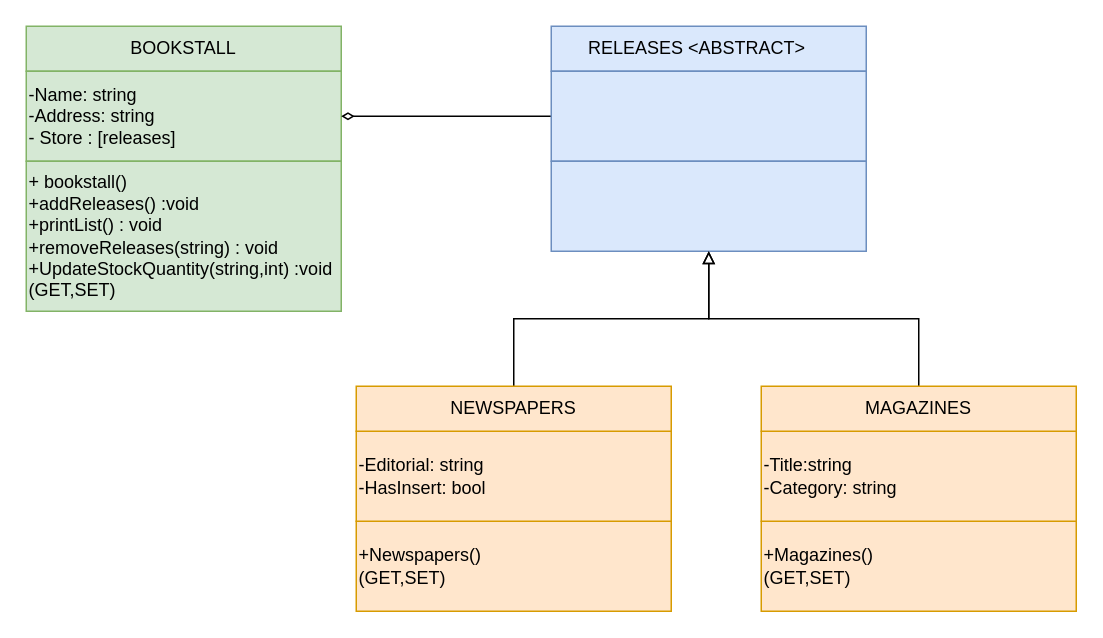
The diagram is 1103 pixels wide and 638 high, and some of its shapes have lost their labels. The shapes that lost their labels are listed below. From the top down, each one's centre as x and y in pixels, then its label:
At (708,115): "-Price: float -SerialNumber: string - StockQuantity: int".
At (708,205): "+Releases() +PrintDetails() : void".
